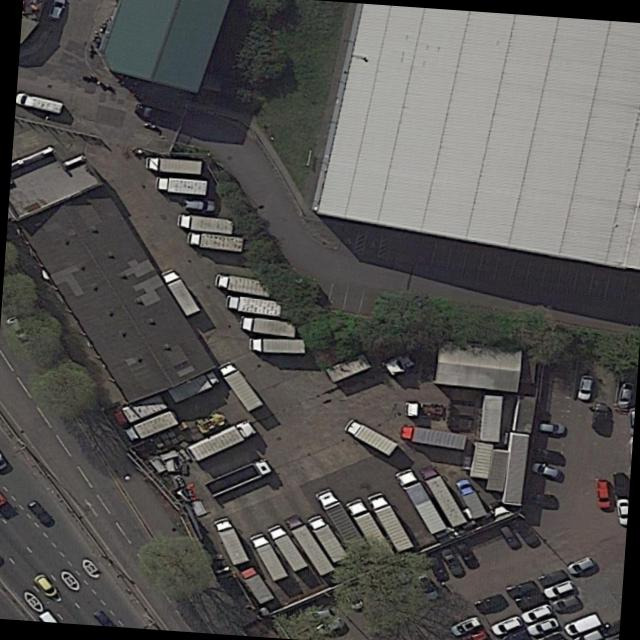large-vehicle: (310, 485, 370, 557), (389, 464, 447, 534), (279, 510, 336, 577), (340, 493, 395, 562), (416, 459, 468, 528), (184, 415, 257, 461), (363, 488, 413, 553), (201, 454, 273, 497), (213, 357, 263, 411), (302, 509, 350, 563), (338, 415, 397, 457), (106, 389, 170, 427), (156, 264, 201, 317), (262, 520, 308, 571), (245, 529, 288, 581), (120, 407, 180, 442), (163, 366, 220, 402), (210, 513, 249, 565), (396, 422, 467, 450), (210, 269, 274, 297), (450, 474, 488, 519), (221, 289, 282, 317), (236, 563, 275, 605), (235, 310, 297, 335), (183, 228, 244, 253), (173, 209, 235, 233), (151, 172, 208, 195), (245, 332, 304, 353), (142, 154, 202, 174)
small-vehicle: (14, 89, 63, 114), (559, 610, 602, 637), (507, 513, 539, 546), (436, 543, 466, 577), (411, 567, 440, 602), (487, 611, 524, 637), (450, 536, 479, 568), (517, 600, 555, 624), (28, 569, 59, 598), (445, 613, 482, 637), (132, 102, 174, 123), (524, 613, 560, 637), (538, 577, 576, 599), (423, 549, 449, 581), (309, 614, 345, 637), (502, 577, 539, 599), (24, 497, 53, 525), (471, 590, 507, 612), (526, 442, 562, 464), (495, 521, 522, 550), (563, 553, 596, 576), (547, 591, 583, 612), (512, 587, 546, 609), (534, 566, 569, 587), (526, 459, 561, 480), (613, 379, 634, 409), (180, 194, 215, 211), (519, 490, 556, 506), (588, 400, 608, 429), (531, 418, 565, 434), (594, 476, 611, 508), (498, 624, 532, 640), (568, 625, 604, 640), (609, 469, 628, 497), (341, 584, 363, 608), (455, 625, 490, 640), (574, 373, 593, 400), (302, 605, 331, 621), (531, 627, 566, 640), (614, 496, 628, 524), (46, 0, 65, 19)
